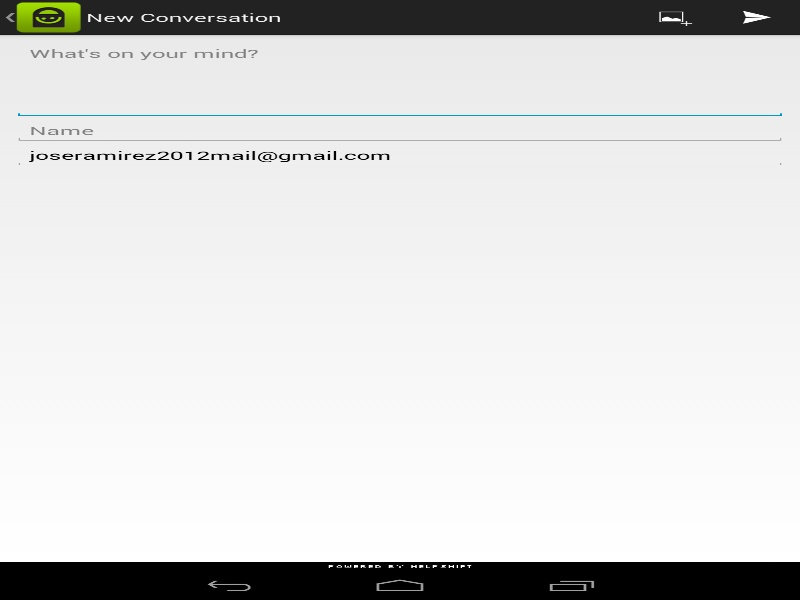Input: (13, 41, 786, 118), (13, 118, 786, 143), (13, 143, 786, 167)
